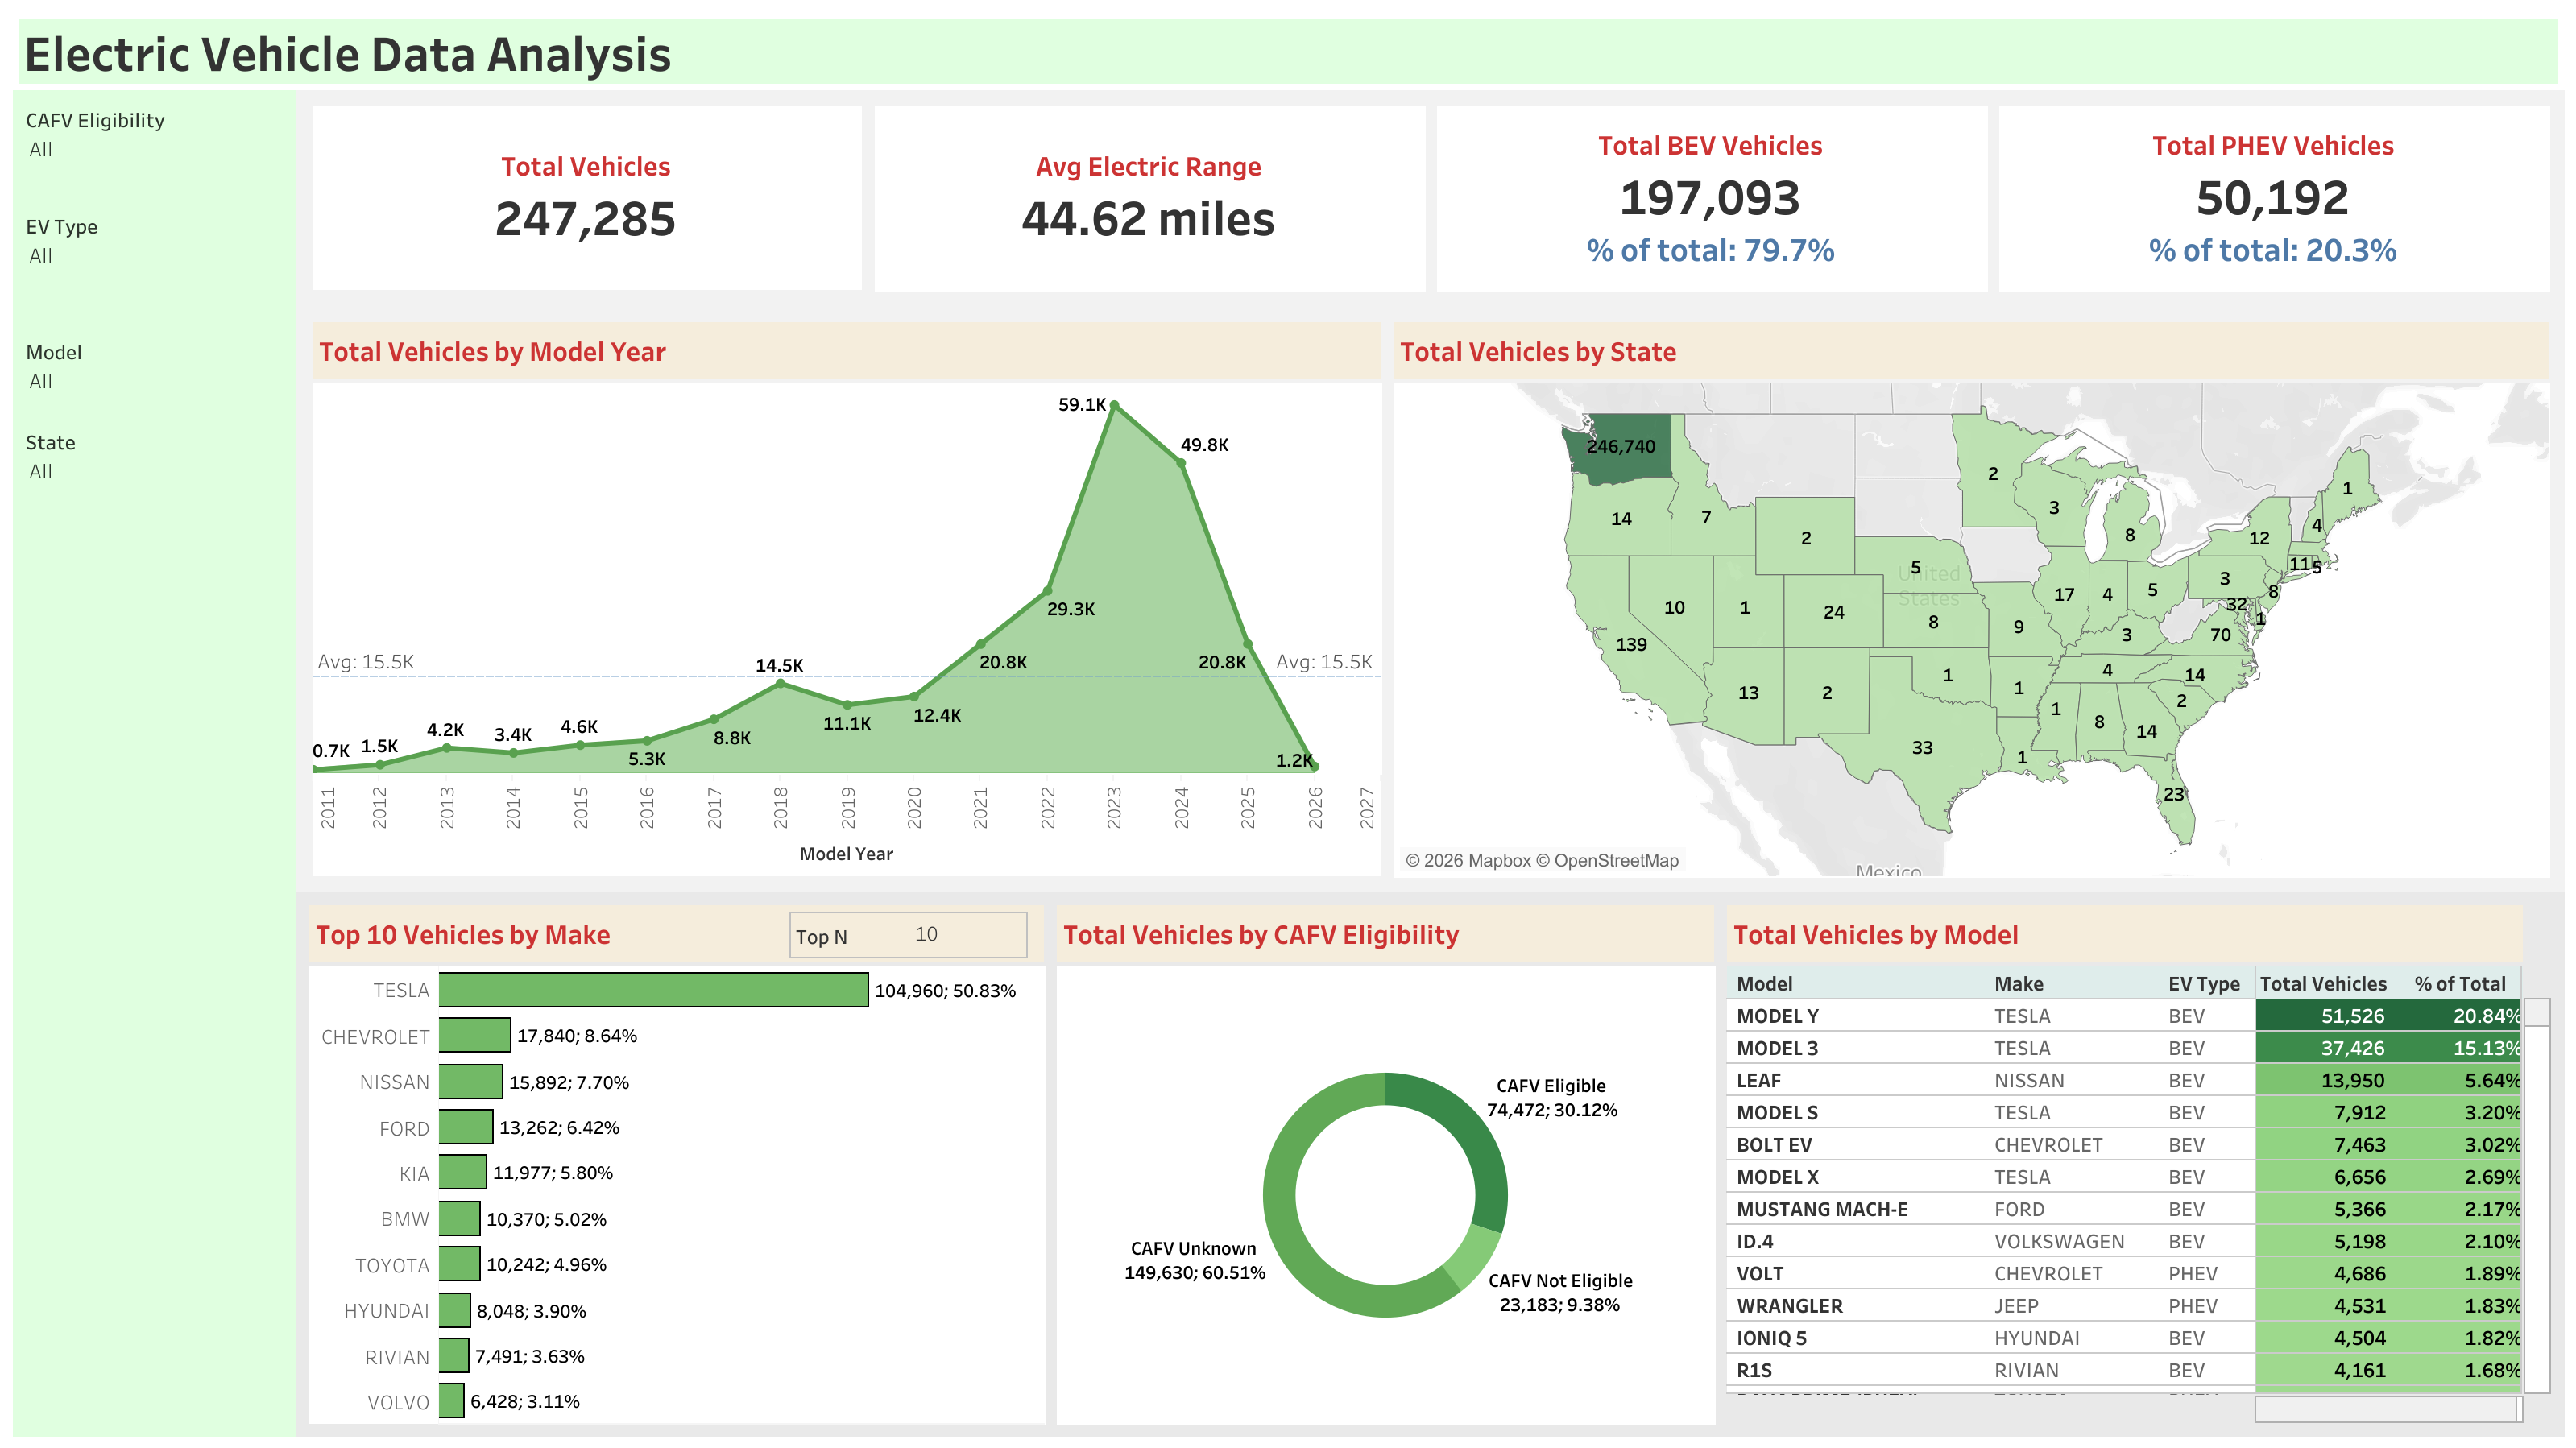

The page's visual inventory and layout, read from the dashboard file:
{"tool":"tableau","page":{"name":"Dashboard 1","canvas":[1600,900],"ordinal":0},"visuals":[{"type":"title","box":[8,8,1584,48]},{"type":"filter","title":"Total Vehicles by Model Year","param":"[federated.00xronp1fqef3f1bawgub1cmdcic].[none:Clean Alternative Fuel Vehicle (C","box":[12,60,168,66]},{"type":"worksheet","title":"Total Vehicles","mark":"Automatic","box":[190,62,349,95]},{"type":"worksheet","title":"Avg Electric Range","mark":"Automatic","box":[539,62,349,95]},{"type":"worksheet","title":"Total BEV Vehicles","mark":"Automatic","box":[888,62,349,95]},{"type":"worksheet","title":"Total PHEV Vehicles","mark":"Automatic","box":[1237,62,349,95]},{"type":"filter","title":"Total Vehicles by Model Year","param":"[federated.00xronp1fqef3f1bawgub1cmdcic].[none:Electric Vehicle Type:nk]","box":[12,126,168,78]},{"type":"worksheet","title":"Total Vehicles by Model Year","mark":"Area","rows":["Calculation_4296504460475817984","Calculation_4296504460475817984"],"cols":["Model Year"],"box":[190,169,671,380]},{"type":"worksheet","title":"Total Vehicles by State","mark":"Multipolygon","box":[861,169,725,380]},{"type":"filter","title":"Total Vehicles by Model Year","param":"[federated.00xronp1fqef3f1bawgub1cmdcic].[none:Model:nk]","box":[12,204,168,52]},{"type":"filter","title":"Total Vehicles by Model Year","param":"[federated.00xronp1fqef3f1bawgub1cmdcic].[none:State:nk]","box":[12,256,168,52]},{"type":"worksheet","title":"Top 10 Vehicles by Make","mark":"Automatic","rows":["Make"],"cols":["Calculation_4296504460475817984"],"box":[188,559,464,329]},{"type":"worksheet","title":"Total Vehicles by CAFV Eligibility","mark":"Pie","rows":["Calculation_4441886286071984129","Calculation_4441886286071984129"],"box":[652,559,416,329]},{"type":"worksheet","title":"Total Vehicles by Model","mark":"Square","rows":["Model","Make","Electric Vehicle Type"],"box":[1068,559,520,329]},{"type":"parameter","param":"[Parameters].[Parameter 1]","box":[503,570,148,29]}]}

Visuals, with their boxes in screenshot pixels (x1, y1, x2, y2), scaled from the page's 1600x900 canvas onto the 2576x1448 screenshot:
title: (x1=13, y1=13, x2=2563, y2=90)
"Total Vehicles by Model Year" filter: (x1=19, y1=97, x2=290, y2=203)
"Total Vehicles" worksheet: (x1=306, y1=100, x2=868, y2=253)
"Avg Electric Range" worksheet: (x1=868, y1=100, x2=1430, y2=253)
"Total BEV Vehicles" worksheet: (x1=1430, y1=100, x2=1991, y2=253)
"Total PHEV Vehicles" worksheet: (x1=1991, y1=100, x2=2553, y2=253)
"Total Vehicles by Model Year" filter: (x1=19, y1=203, x2=290, y2=329)
"Total Vehicles by Model Year" worksheet (Area marks): (x1=306, y1=272, x2=1386, y2=883)
"Total Vehicles by State" worksheet (Multipolygon marks): (x1=1386, y1=272, x2=2553, y2=883)
"Total Vehicles by Model Year" filter: (x1=19, y1=329, x2=290, y2=412)
"Total Vehicles by Model Year" filter: (x1=19, y1=412, x2=290, y2=495)
"Top 10 Vehicles by Make" worksheet: (x1=303, y1=900, x2=1050, y2=1429)
"Total Vehicles by CAFV Eligibility" worksheet (Pie marks): (x1=1050, y1=900, x2=1720, y2=1429)
"Total Vehicles by Model" worksheet (Square marks): (x1=1720, y1=900, x2=2557, y2=1429)
parameter: (x1=810, y1=917, x2=1048, y2=964)
